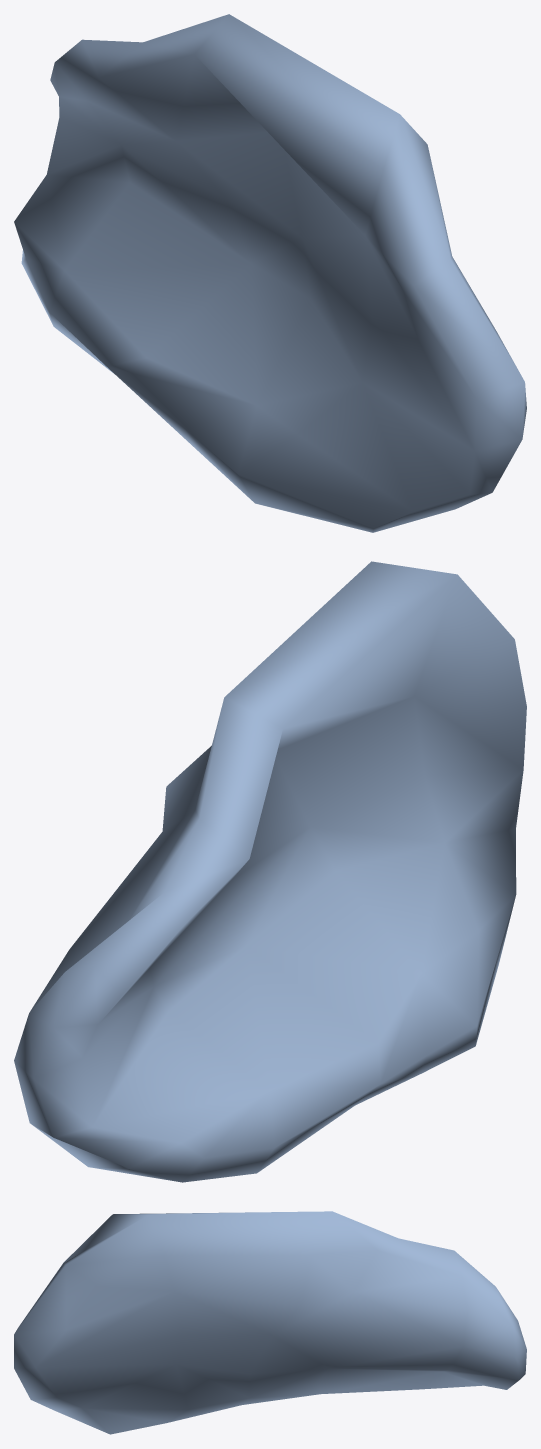
Rendered from junRoadcover3.fbx.
3 renders of one model, top to bottom at view 1: azimuth 30°, elevation 25°; view 2: azimuth 150°, elevation 25°; view 3: azimuth 270°, elevation 25°, orthographic. The views are drawn at different scales.
Visible parts, largest first — view 1: cover3_LOD0; view 2: cover3_LOD0; view 3: cover3_LOD0.
Boxes of the visible parts, x1=… form: cover3_LOD0: x1=14, y1=14, x2=526, y2=532; cover3_LOD0: x1=14, y1=561, x2=526, y2=1182; cover3_LOD0: x1=14, y1=1211, x2=526, y2=1434.
Size of the model in its own units: 249 by 436 by 875.
